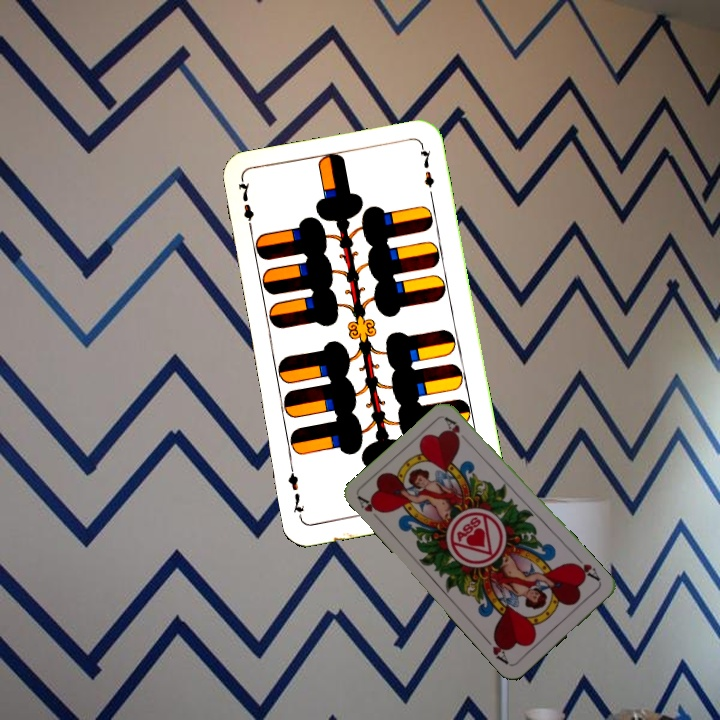E7: (234, 177, 256, 236)
HA: (568, 552, 603, 585), (354, 492, 386, 526)
